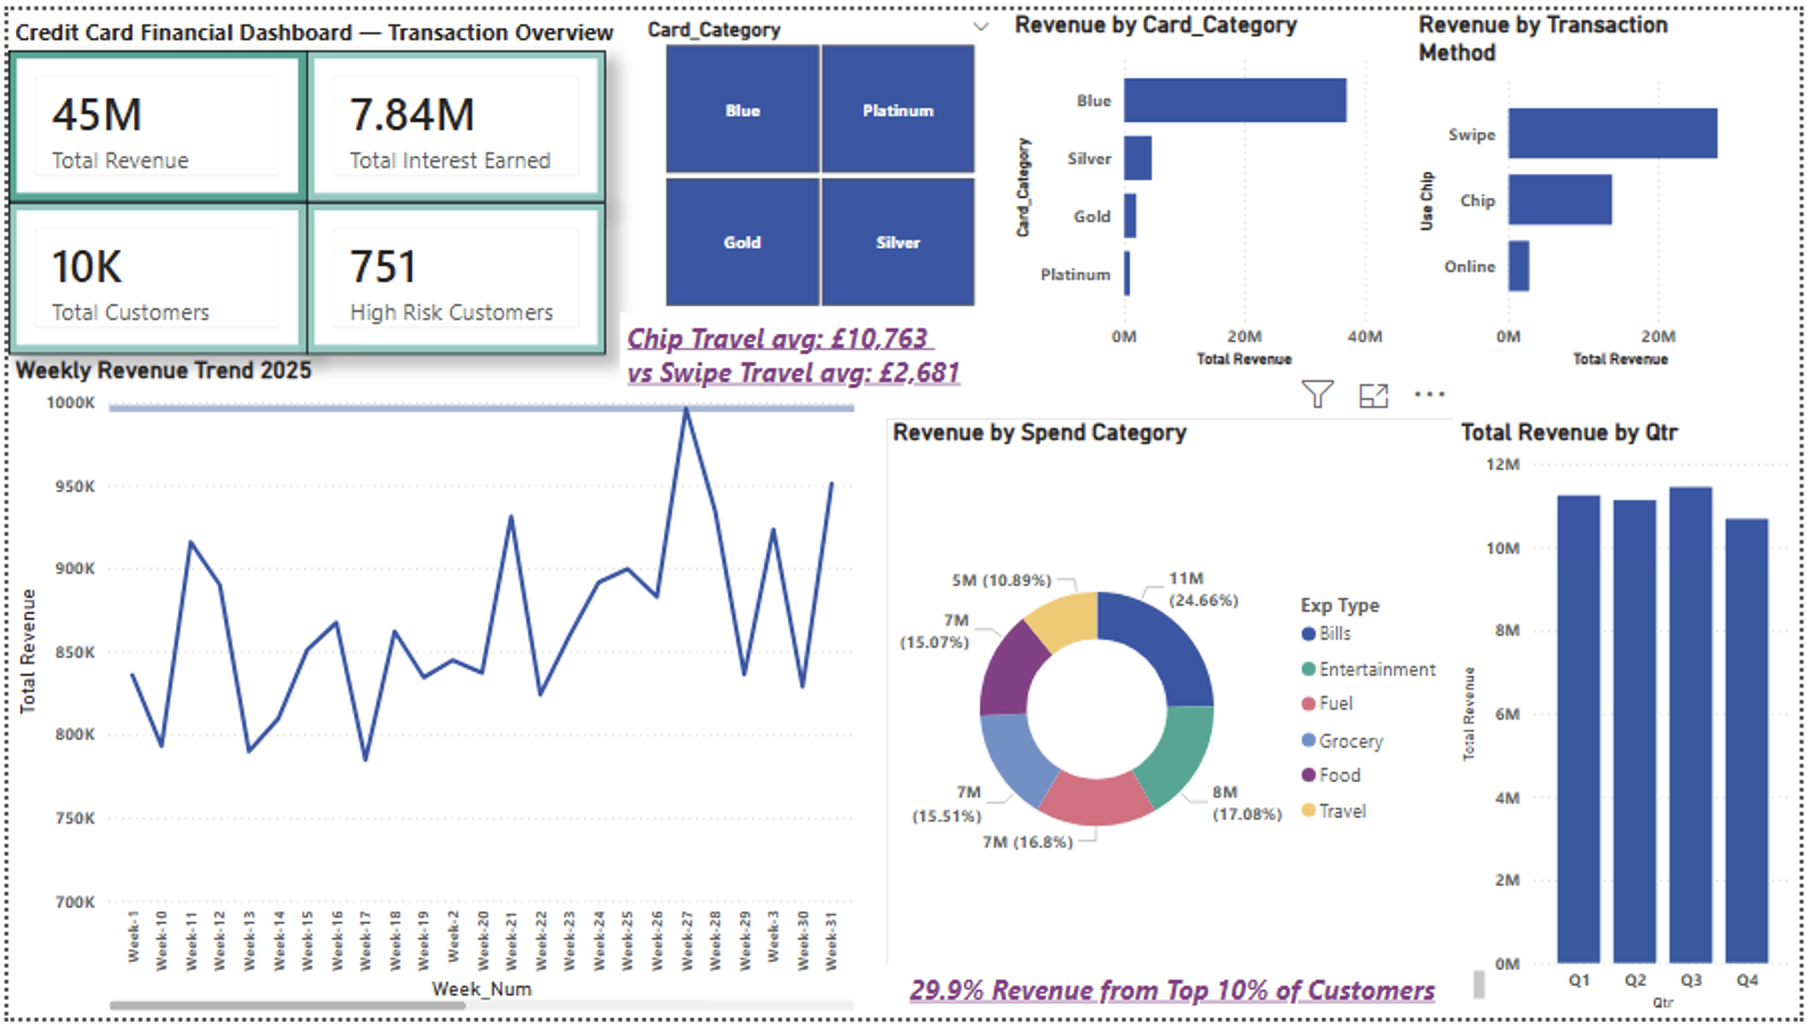

The dashboard page shown, as its layout file describes it:
{"tool":"powerbi","page":{"name":"Transaction Overview","canvas":[1280,720],"ordinal":0},"visuals":[{"type":"cardVisual","fields":{"Data":["credit_card.Total Revenue"]},"box":[0,28.3,213.8,108.6],"z":0,"group":"g1"},{"type":"lineChart","title":"Weekly Revenue Trend 2025","fields":{"Category":["credit_card.Week_Num"],"Y":["credit_card.Total Revenue","select"]},"box":[0,246.7,610,473.3],"z":0},{"type":"clusteredBarChart","title":"Revenue by Card_Category","fields":{"Category":["credit_card.Card_Category"],"Y":["credit_card.Total Revenue"]},"box":[714.9,0,273.1,259.7],"z":1000},{"type":"cardVisual","fields":{"Data":["credit_card.Total Customers"]},"box":[0,137.1,213.5,108.8],"z":1000,"group":"g1"},{"type":"cardVisual","fields":{"Data":["credit_card.Total Interest Earned"]},"box":[213.5,28.3,214.1,108.8],"z":2000,"group":"g1"},{"type":"donutChart","title":"Revenue by Spend Category","fields":{"Category":["credit_card.Exp Type"],"Y":["credit_card.Total Revenue"]},"box":[626.9,291,407.5,397],"z":2000},{"type":"cardVisual","fields":{"Data":["credit_card.High Risk Customers"]},"box":[213.5,137.1,214.1,108.8],"z":3000,"group":"g1"},{"type":"clusteredColumnChart","fields":{"Category":["credit_card.Qtr"],"Y":["credit_card.Total Revenue"]},"box":[1032.9,291.4,247.1,428.6],"z":3000},{"type":"slicer","fields":{"Values":["credit_card.Card_Category"]},"box":[444.8,0,270.1,217.9],"z":4000},{"type":"clusteredBarChart","title":"Revenue by Transaction Method","fields":{"Category":["credit_card.Use Chip"],"Y":["credit_card.Total Revenue"]},"box":[1003,0,247.8,259.7],"z":5000},{"type":"textbox","box":[0,0,445,43.3],"z":6000},{"type":"group","id":"g1","title":"Group 1","box":[0,28.3,428.3,218.3],"z":7000},{"type":"textbox","box":[610,681.4,450,38.6],"z":8000},{"type":"textbox","box":[437.3,216.4,346.3,59.7],"z":9000}]}

Visuals, with their boxes in screenshot pixels (x1, y1, x2, y2), scaled from the page's 1280x720 canvas onto the 1810x1026 screenshot:
cardVisual - credit_card.Total Revenue: <box>0,40,302,195</box>
"Weekly Revenue Trend 2025" lineChart: <box>0,352,863,1025</box>
"Revenue by Card_Category" clusteredBarChart: <box>1011,0,1397,370</box>
cardVisual - credit_card.Total Customers: <box>0,195,302,350</box>
cardVisual - credit_card.Total Interest Earned: <box>302,40,605,195</box>
"Revenue by Spend Category" donutChart: <box>886,415,1463,980</box>
cardVisual - credit_card.High Risk Customers: <box>302,195,605,350</box>
clusteredColumnChart - credit_card.Qtr x credit_card.Total Revenue: <box>1461,415,1809,1025</box>
slicer - credit_card.Card_Category: <box>629,0,1011,311</box>
"Revenue by Transaction Method" clusteredBarChart: <box>1418,0,1769,370</box>
textbox: <box>0,0,629,62</box>
"Group 1" group: <box>0,40,606,351</box>
textbox: <box>863,971,1499,1025</box>
textbox: <box>618,308,1108,393</box>
